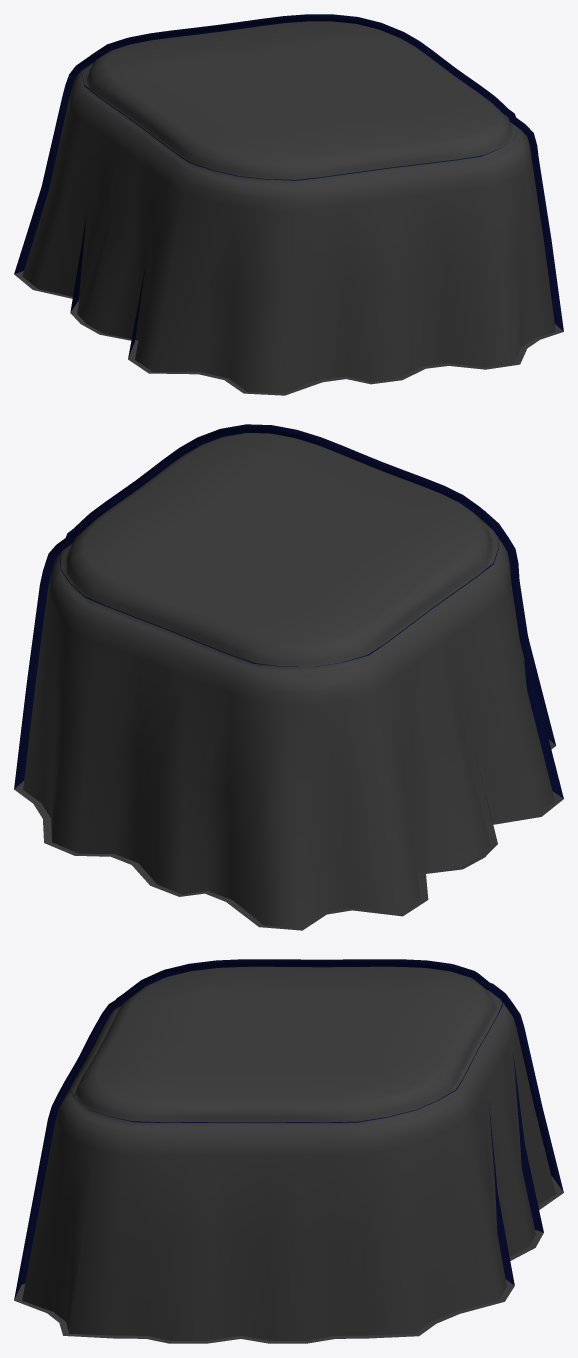
3 views of the same model, one above another, from view 1: azimuth 30°, elevation 25°; view 2: azimuth 150°, elevation 25°; view 3: azimuth 270°, elevation 25° (orthographic). The views are drawn at different scales.
Parts seen in each view (by area): view 1: Automan; view 2: Automan; view 3: Automan.
Part boxes in pixels (<box>): Automan: <box>14,14,563,395</box>; Automan: <box>14,424,563,930</box>; Automan: <box>14,959,563,1343</box>.
Size of the model in its own units: 0.7253 by 0.3958 by 0.8718.
